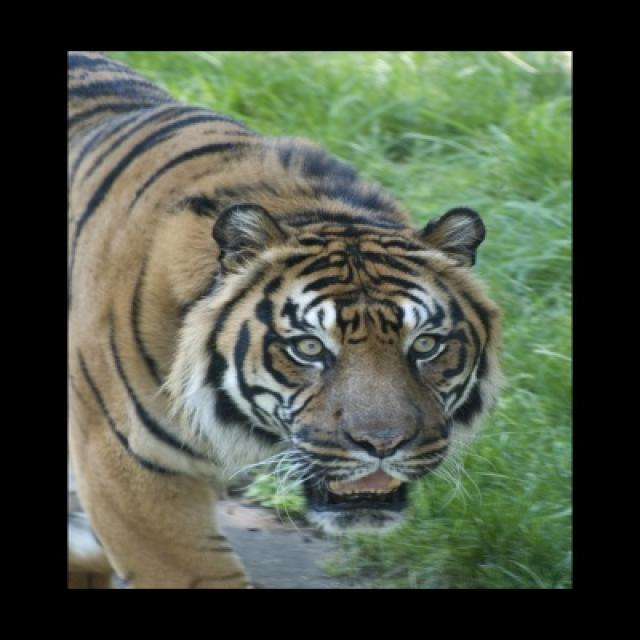Tiger: (67, 46, 501, 589)
